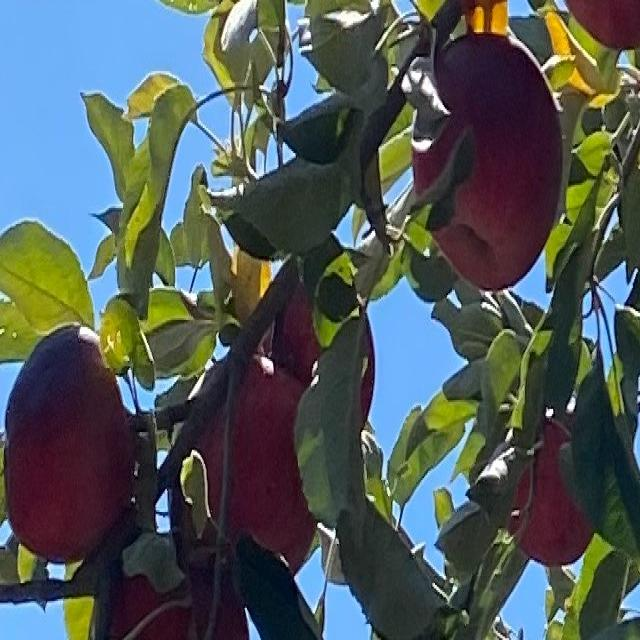100-_ripeness: (416, 36, 564, 282), (173, 352, 315, 580), (5, 325, 132, 551), (90, 531, 251, 640), (265, 281, 377, 427), (505, 393, 597, 567), (568, 0, 640, 50)
